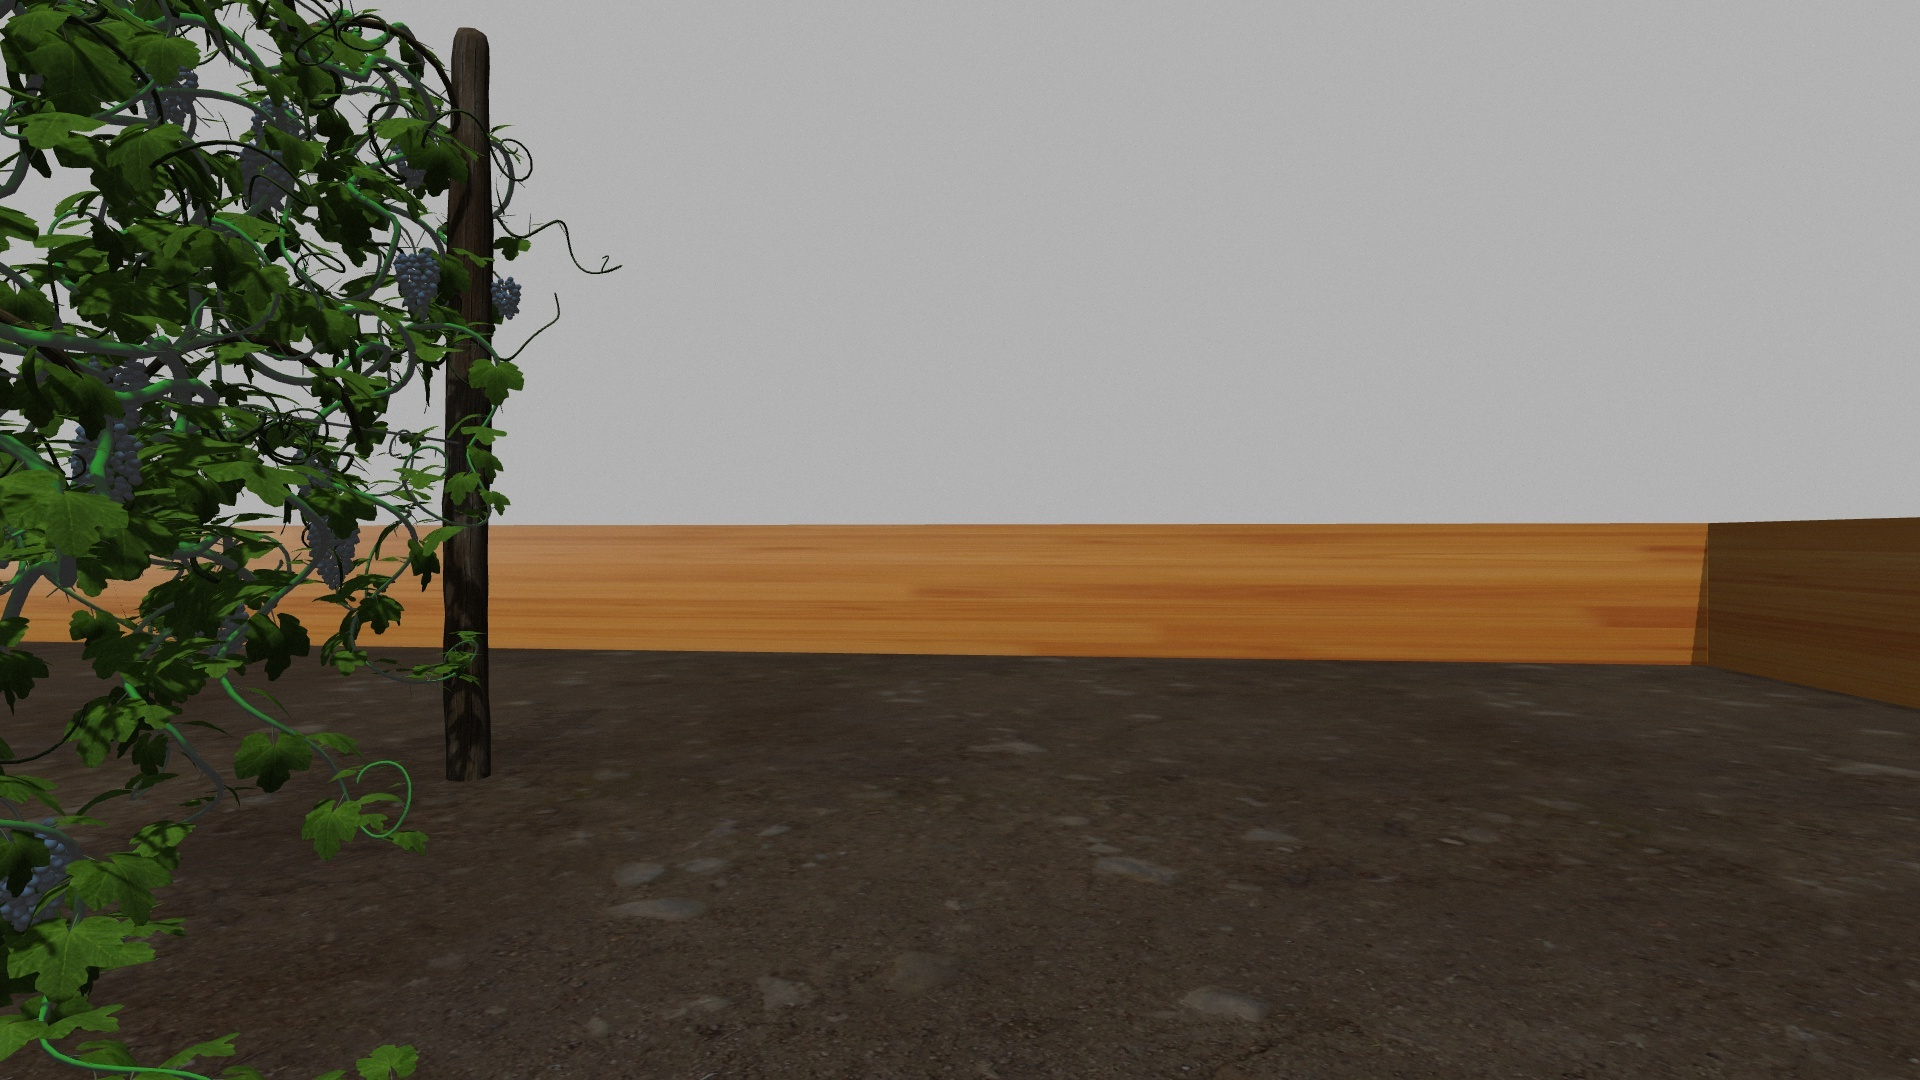grape: (4, 822, 71, 935), (69, 425, 141, 502), (306, 516, 361, 589), (396, 248, 442, 322), (142, 66, 199, 125), (237, 145, 287, 204), (489, 276, 522, 322)
